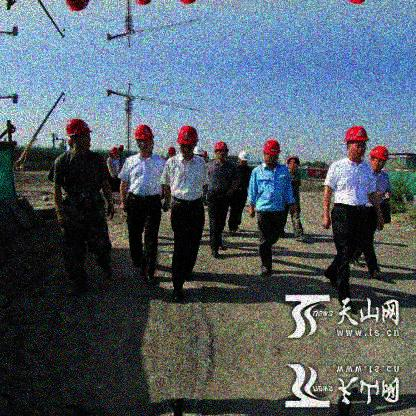helmet: (345, 126, 370, 161), (67, 118, 91, 152), (176, 127, 198, 160), (135, 125, 155, 153), (369, 147, 389, 172), (264, 140, 282, 167), (214, 142, 229, 161), (238, 150, 250, 168), (287, 156, 301, 171), (111, 147, 118, 157)
